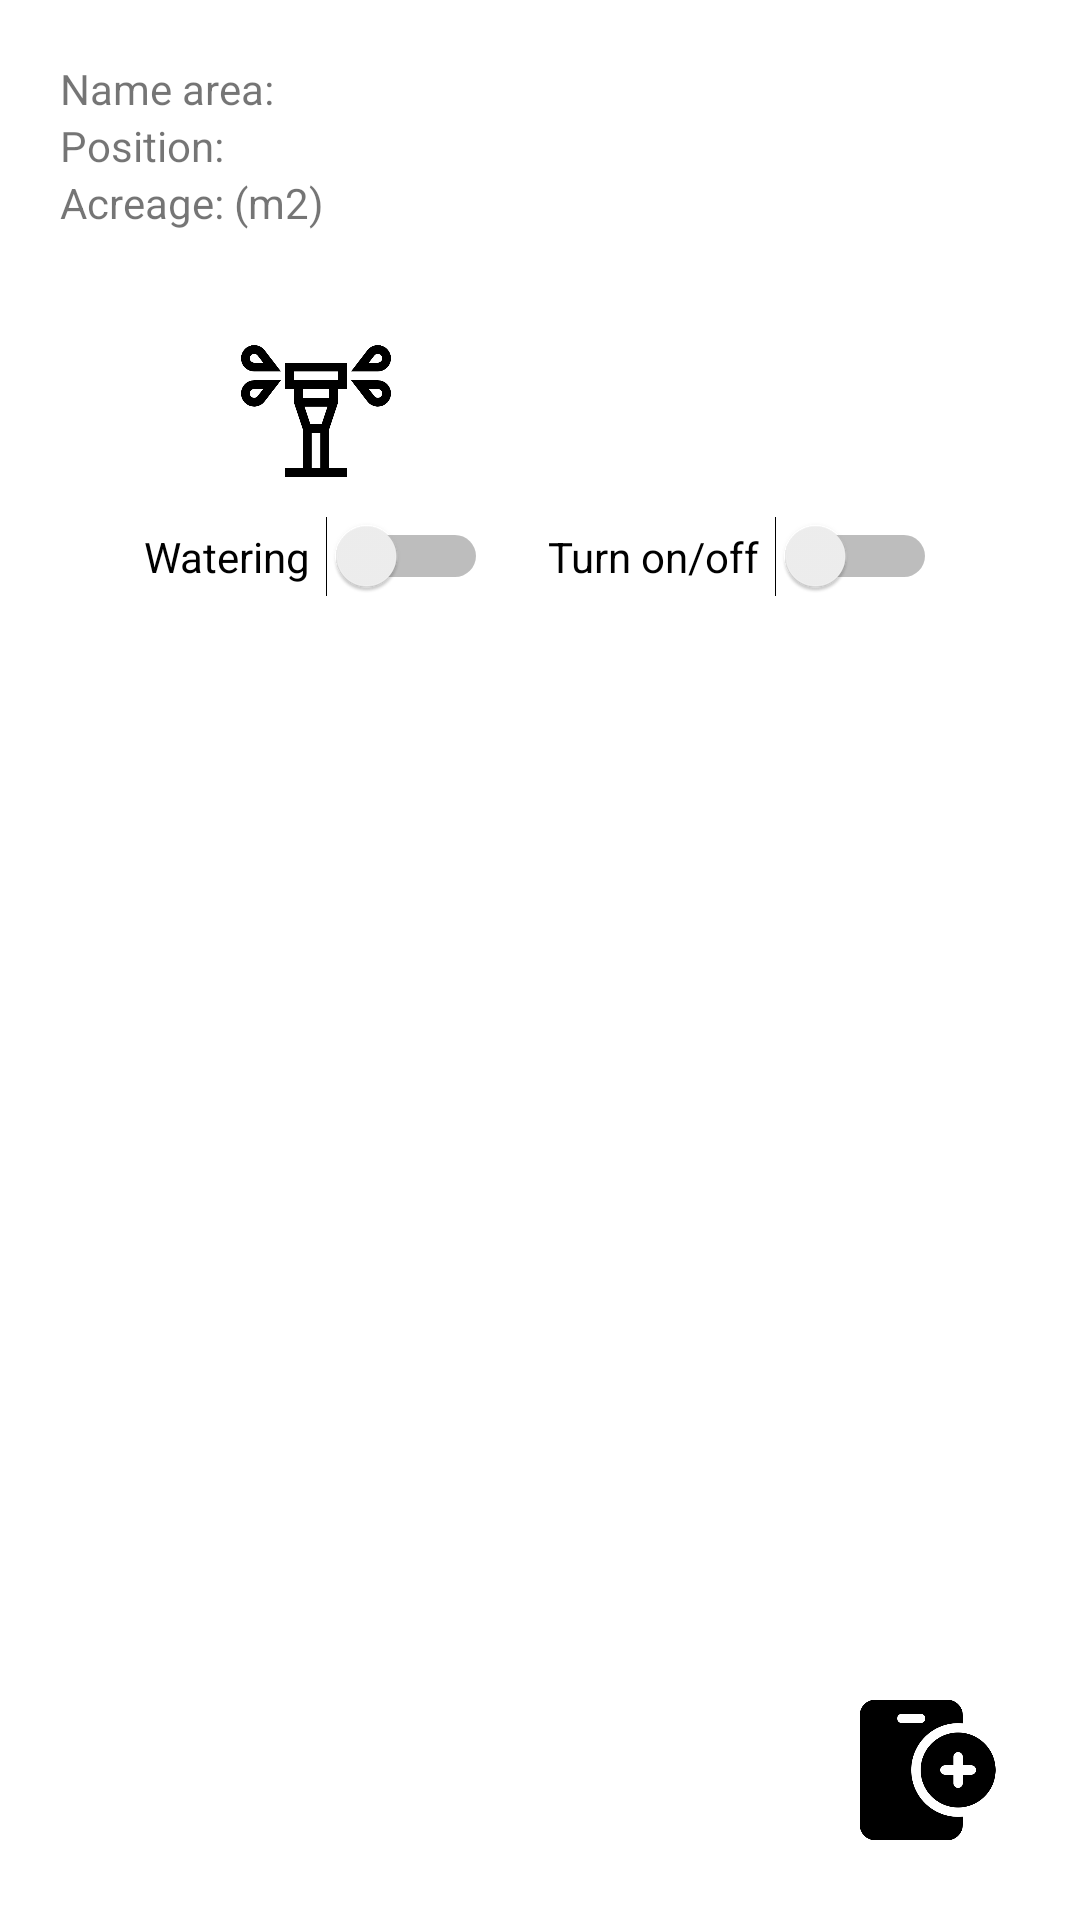

Where icons sit on this 1080w x 1920h app screen, as [x1, y1, x2, y2]:
add device: [860, 1700, 996, 1840]
